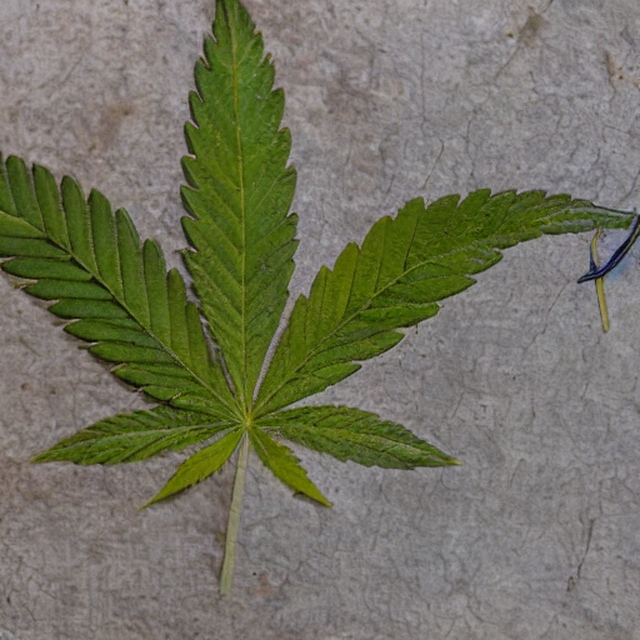Marijuana Leaf: (1, 0, 638, 595)
